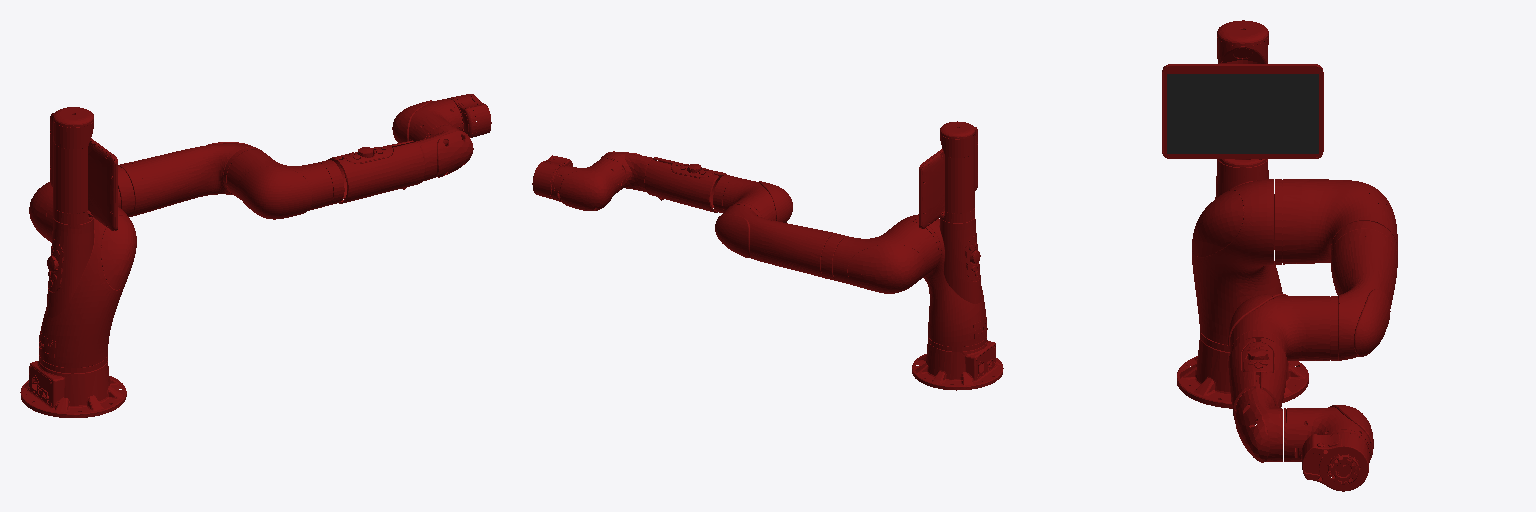
URDF robot description (sawyer):
<?xml version="1.0" ?>
<!-- =================================================================================== -->
<!-- |    This document was autogenerated by xacro from ./urdf.xacro                   | -->
<!-- |    EDITING THIS FILE BY HAND IS NOT RECOMMENDED                                 | -->
<!-- =================================================================================== -->
<robot name="sawyer" xmlns:xacro="http://www.ros.org/wiki/xacro">
  <material name="black">
    <color rgba="0 0 0 1"/>
  </material>
  <material name="darkgray">
    <color rgba=".2 .2 .2 1"/>
  </material>
  <material name="darkred">
    <color rgba=".5 .1 .1 1"/>
  </material>
  <material name="sawyer_red">
    <color rgba=".5 .1 .1 1"/>
  </material>
  <material name="sawyer_gray">
    <color rgba="0.75294 0.75294 0.75294 1"/>
  </material>
  <link name="base"/>
  <link name="torso">
    <visual>
      <origin rpy="0 0 0" xyz="0 0 0"/>
      <geometry>
        <box size="0 0 0"/>
      </geometry>
      <material name="darkgray">
        <color rgba=".2 .2 .2 1"/>
      </material>
    </visual>
    <inertial>
      <origin rpy="0 0 0" xyz="0.000000 0.000000 0.000000"/>
      <mass value="0.0001"/>
      <inertia ixx="1e-08" ixy="0" ixz="0" iyy="1e-08" iyz="0" izz="1e-08"/>
    </inertial>
  </link>
  <link name="pedestal">
    <visual>
      <origin rpy="1.57079632679 0 -1.57079632679" xyz="0.26 0.345 -0.91488"/>
      <geometry>
        <mesh filename="package://sawyer_description/meshes/sawyer_pv/pedestal.DAE"/>
      </geometry>
      <material name="darkgray"/>
    </visual>
    <collision>
      <origin rpy="0 0 0" xyz="0 0 -0.30"/>
      <geometry>
        <cylinder length="0.62" radius="0.18"/>
      </geometry>
    </collision>
    <inertial>
      <origin rpy="0 0 0" xyz="0 0 0"/>
      <mass value="60.86397744"/>
      <inertia ixx="5.0635929" ixy="0.00103417" ixz="0.80199628" iyy="6.08689388" iyz="0.00105311" izz="4.96191932"/>
    </inertial>
  </link>
  <joint name="torso_t0" type="fixed">
    <origin rpy="0 0 0" xyz="0 0 0"/>
    <parent link="base"/>
    <child link="torso"/>
  </joint>
  <joint name="pedestal_fixed" type="fixed">
    <origin rpy="0 0 0" xyz="0.0 0.0 0.0"/>
    <parent link="base"/>
    <child link="pedestal"/>
  </joint>
  <joint name="right_arm_mount" type="fixed">
    <origin rpy="0 0 0" xyz="0.0 0.0 0.0"/>
    <parent link="base"/>
    <child link="right_arm_base_link"/>
  </joint>
  <link name="right_arm_base_link">
    <inertial>
      <origin rpy="0 0 0" xyz="-0.0006241 -2.8025E-05 0.065404"/>
      <mass value="2.0687"/>
      <inertia ixx="0.0067599" ixy="-4.2024E-05" ixz="-6.1904E-07" iyy="0.0067877" iyz="1.5888E-05" izz="0.0074031"/>
    </inertial>
    <visual>
      <origin rpy="0 0 0" xyz="0 0 0"/>
      <geometry>
        <mesh filename="package://sawyer_description/meshes/sawyer_pv/base.DAE"/>
      </geometry>
      <material name="sawyer_red"/>
    </visual>
    <collision>
      <origin rpy="0 0 0" xyz="0 0 0.12"/>
      <geometry>
        <cylinder length="0.24" radius="0.08"/>
      </geometry>
    </collision>
  </link>
  <link name="right_l0">
    <inertial>
      <origin rpy="0 0 0" xyz="0.024366 0.010969 0.14363"/>
      <mass value="5.3213"/>
      <inertia ixx="0.053314" ixy="0.0047093" ixz="0.011734" iyy="0.057902" iyz="0.0080179" izz="0.023659"/>
    </inertial>
    <visual>
      <origin rpy="0 0 0" xyz="0 0 0"/>
      <geometry>
        <mesh filename="package://sawyer_description/meshes/sawyer_mp3/l0.DAE"/>
      </geometry>
      <material name="sawyer_red"/>
    </visual>
    <collision>
      <origin rpy="0 0 0" xyz="0.081 0 0.237"/>
      <geometry>
        <sphere radius="0.07"/>
      </geometry>
    </collision>
  </link>
  <joint name="right_j0" type="revolute">
    <origin rpy="0 0 0" xyz="0 0 0.08"/>
    <parent link="right_arm_base_link"/>
    <child link="right_l0"/>
    <axis xyz="0 0 1"/>
    <limit effort="80.0" lower="-3.0503" upper="3.0503" velocity="1.74"/>
  </joint>
  <link name="head">
    <inertial>
      <origin rpy="0 0 0" xyz="0.0053207 -2.6549E-05 0.1021"/>
      <mass value="1.5795"/>
      <inertia ixx="0.011833" ixy="-4.4669E-06" ixz="4.9425E-05" iyy="0.0082709" iyz="4.2124E-07" izz="0.0049661"/>
    </inertial>
    <visual>
      <origin rpy="0 0 0" xyz="0 0 0"/>
      <geometry>
        <mesh filename="package://sawyer_description/meshes/sawyer_pv/head.DAE"/>
      </geometry>
      <material name="sawyer_red"/>
    </visual>
    <collision>
      <origin rpy="0 0 0" xyz="0 0 0.08"/>
      <geometry>
        <sphere radius="0.18"/>
      </geometry>
    </collision>
  </link>
  <joint name="head_pan" type="revolute">
    <origin rpy="0 0 0" xyz="0 0 0.2965"/>
    <parent link="right_l0"/>
    <child link="head"/>
    <axis xyz="0 0 1"/>
    <limit effort="8" lower="-5.1477" upper="0.9559" velocity="1.8"/>
  </joint>
  <link name="right_torso_itb">
    <inertial>
      <origin rpy="0 0 0" xyz="0.000000 0.000000 0.000000"/>
      <mass value="0.0001"/>
      <inertia ixx="1e-08" ixy="0" ixz="0" iyy="1e-08" iyz="0" izz="1e-08"/>
    </inertial>
  </link>
  <joint name="right_torso_itb" type="fixed">
    <origin rpy="0 -1.57079632679 0" xyz="-.055 0 .22"/>
    <parent link="right_l0"/>
    <child link="right_torso_itb"/>
    <axis xyz="0 0 1"/>
  </joint>
  <link name="right_l1">
    <inertial>
      <origin rpy="0 0 0" xyz="-0.0030849 -0.026811 0.092521"/>
      <mass value="4.505"/>
      <inertia ixx="0.022398" ixy="-0.00023986" ixz="-0.00029362" iyy="0.014613" iyz="-0.0060875" izz="0.017295"/>
    </inertial>
    <visual>
      <origin rpy="0 0 0" xyz="0 0 0"/>
      <geometry>
        <mesh filename="package://sawyer_description/meshes/sawyer_mp3/l1.DAE"/>
      </geometry>
      <material name="sawyer_red"/>
    </visual>
    <collision>
      <origin rpy="0 0 0" xyz="0 0 0.1225"/>
      <geometry>
        <sphere radius="0.07"/>
      </geometry>
    </collision>
  </link>
  <joint name="right_j1" type="revolute">
    <origin rpy="-1.57079632679 1.57079632679 0" xyz="0.081 0.05 0.237"/>
    <parent link="right_l0"/>
    <child link="right_l1"/>
    <axis xyz="0 0 1"/>
    <limit effort="80.0" lower="-3.8183" upper="2.2824" velocity="1.328"/>
  </joint>
  <link name="right_l2">
    <inertial>
      <origin rpy="0 0 0" xyz="-0.00016232 -0.015346 0.13445"/>
      <mass value="1.7251"/>
      <inertia ixx="0.025176" ixy="4.3031E-06" ixz="1.4564E-05" iyy="0.024982" iyz="-0.0033928" izz="0.0033798"/>
    </inertial>
    <visual>
      <origin rpy="0 0 0" xyz="0 0 0"/>
      <geometry>
        <mesh filename="package://sawyer_description/meshes/sawyer_pv/l2.DAE"/>
      </geometry>
      <material name="sawyer_red"/>
    </visual>
    <collision>
      <origin rpy="0 0 0" xyz="0 0 0.14"/>
      <geometry>
        <cylinder length="0.35" radius="0.06"/>
      </geometry>
    </collision>
  </link>
  <joint name="right_j2" type="revolute">
    <origin rpy="1.57079632679 0 0" xyz="0 -0.14 0.1425"/>
    <parent link="right_l1"/>
    <child link="right_l2"/>
    <axis xyz="0 0 1"/>
    <limit effort="40.0" lower="-3.0514" upper="3.0514" velocity="1.957"/>
  </joint>
  <link name="right_l3">
    <inertial>
      <origin rpy="0 0 0" xyz="-0.0046678 -0.028394 -0.083127"/>
      <mass value="2.4743"/>
      <inertia ixx="0.0099549" ixy="-1.7675E-05" ixz="0.00027521" iyy="0.0064248" iyz="0.0030853" izz="0.0067746"/>
    </inertial>
    <visual>
      <origin rpy="0 0 0" xyz="0 0 0"/>
      <geometry>
        <mesh filename="package://sawyer_description/meshes/sawyer_pv/l3.DAE"/>
      </geometry>
      <material name="sawyer_red"/>
    </visual>
    <collision>
      <origin rpy="0 0 0" xyz="0 -0.01 -0.12"/>
      <geometry>
        <sphere radius="0.06"/>
      </geometry>
    </collision>
  </link>
  <joint name="right_j3" type="revolute">
    <origin rpy="-1.57079632679 0 0" xyz="0 -0.042 0.26"/>
    <parent link="right_l2"/>
    <child link="right_l3"/>
    <axis xyz="0 0 1"/>
    <limit effort="40.0" lower="-3.0514" upper="3.0514" velocity="1.957"/>
  </joint>
  <link name="right_l4">
    <inertial>
      <origin rpy="0 0 0" xyz="-0.0027794 0.0076558 0.13273"/>
      <mass value="1.0433"/>
      <inertia ixx="0.012913" ixy="2.573E-05" ixz="0.00017705" iyy="0.012939" iyz="0.0011152" izz="0.0012405"/>
    </inertial>
    <visual>
      <origin rpy="0 0 0" xyz="0 0 0"/>
      <geometry>
        <mesh filename="package://sawyer_description/meshes/sawyer_pv/l4.DAE"/>
      </geometry>
      <material name="sawyer_red"/>
    </visual>
    <collision>
      <origin rpy="0 0 0" xyz="0 0 0.14"/>
      <geometry>
        <cylinder length="0.36" radius="0.045"/>
      </geometry>
    </collision>
  </link>
  <joint name="right_j4" type="revolute">
    <origin rpy="1.57079632679 0 0" xyz="0 -0.125 -0.1265"/>
    <parent link="right_l3"/>
    <child link="right_l4"/>
    <axis xyz="0 0 1"/>
    <limit effort="9.0" lower="-2.9842" upper="2.9842" velocity="3.485"/>
  </joint>
  <link name="right_arm_itb">
    <inertial>
      <origin rpy="0 0 0" xyz="0.000000 0.000000 0.000000"/>
      <mass value="0.0001"/>
      <inertia ixx="1e-08" ixy="0" ixz="0" iyy="1e-08" iyz="0" izz="1e-08"/>
    </inertial>
  </link>
  <joint name="right_arm_itb" type="fixed">
    <origin rpy="0 -1.57079632679 0" xyz="-.055 0 .075"/>
    <parent link="right_l4"/>
    <child link="right_arm_itb"/>
    <axis xyz="0 0 1"/>
  </joint>
  <link name="right_l5">
    <inertial>
      <origin rpy="0 0 0" xyz="0.0062067 -0.024291 0.075564"/>
      <mass value="1.5343"/>
      <inertia ixx="0.0046072" ixy="0.00012002" ixz="5.3065E-05" iyy="0.0028725" iyz="-0.0011886" izz="0.003101"/>
    </inertial>
    <visual>
      <origin rpy="0 0 0" xyz="0 0 0"/>
      <geometry>
        <mesh filename="package://sawyer_description/meshes/sawyer_pv/l5.DAE"/>
      </geometry>
      <material name="sawyer_red"/>
    </visual>
    <collision>
      <origin rpy="0 0 0" xyz="0.01 0 0.09"/>
      <geometry>
        <sphere radius="0.06"/>
      </geometry>
    </collision>
  </link>
  <joint name="right_j5" type="revolute">
    <origin rpy="-1.57079632679 0 0" xyz="0 0.031 0.275"/>
    <parent link="right_l4"/>
    <child link="right_l5"/>
    <axis xyz="0 0 1"/>
    <limit effort="9.0" lower="-2.9842" upper="2.9842" velocity="3.485"/>
  </joint>
  <link name="right_hand_camera"/>
  <joint name="right_hand_camera" type="fixed">
    <origin rpy="0 1.57079632679 0" xyz="0.039552 -0.033 0.0695"/>
    <parent link="right_l5"/>
    <child link="right_hand_camera"/>
    <axis xyz="0 0 0"/>
  </joint>
  <link name="right_wrist"/>
  <joint name="right_wrist" type="fixed">
    <origin rpy="1.57079632679 0 0" xyz="0 0 0.10541"/>
    <parent link="right_l5"/>
    <child link="right_wrist"/>
    <axis xyz="0 0 0"/>
  </joint>
  <link name="right_l6">
    <inertial>
      <origin rpy="0 0 0" xyz="-8.0726E-06 0.0085838 -0.0049566"/>
      <mass value="0.3292"/>
      <inertia ixx="0.00031105" ixy="1.4771E-06" ixz="-3.7074E-07" iyy="0.00021549" iyz="-8.4533E-06" izz="0.00035976"/>
    </inertial>
    <visual>
      <origin rpy="0 0 0" xyz="0 0 0"/>
      <geometry>
        <mesh filename="package://sawyer_description/meshes/sawyer_mp1/l6.DAE"/>
      </geometry>
      <material name="sawyer_red"/>
    </visual>
    <collision>
      <origin rpy="0 0 0" xyz="0 0 -0.005"/>
      <geometry>
        <cylinder length="0.05" radius="0.065"/>
      </geometry>
    </collision>
  </link>
  <joint name="right_j6" type="revolute">
    <origin rpy="-1.57079632679 -0.17453 3.1416" xyz="0 -0.11 0.1053"/>
    <parent link="right_l5"/>
    <child link="right_l6"/>
    <axis xyz="0 0 1"/>
    <limit effort="9.0" lower="-4.7104" upper="4.7104" velocity="4.545"/>
  </joint>
  <link name="right_hand">
    <collision>
      <origin rpy="0 0 0" xyz="0 0 0.02"/>
      <geometry>
        <cylinder length="0.04" radius="0.06"/>
      </geometry>
    </collision>
    <inertial>
      <origin rpy="0 0 0" xyz="1.0E-08 1.0E-08 1.0E-08"/>
      <mass value="1.0E-08"/>
      <inertia ixx="1.0E-08" ixy="1.0E-08" ixz="1.0E-08" iyy="1.0E-08" iyz="1.0E-08" izz="1.0E-08"/>
    </inertial>
  </link>
  <joint name="right_hand" type="fixed">
    <origin rpy="0 0 1.570796" xyz="0 0 0.0245"/>
    <axis xyz="0 0 1"/>
    <parent link="right_l6"/>
    <child link="right_hand"/>
  </joint>
  <link name="screen">
    <visual>
      <origin rpy="0 0 0" xyz="0 0 0"/>
      <geometry>
        <box size="0.24 0.14 0.002"/>
      </geometry>
      <material name="darkgray"/>
    </visual>
    <collision>
      <origin rpy="0 0 0" xyz="0 0 0"/>
      <geometry>
        <sphere radius="0.001"/>
      </geometry>
    </collision>
    <inertial>
      <origin rpy="0 0 0" xyz="0 0 0"/>
      <mass value="0.0001"/>
      <inertia ixx="1e-08" ixy="0" ixz="0" iyy="1e-08" iyz="0" izz="1e-08"/>
    </inertial>
  </link>
  <joint name="display_joint" type="fixed">
    <origin rpy="1.57079632679 0 1.57079632679" xyz="0.03 0.0 0.105"/>
    <parent link="head"/>
    <child link="screen"/>
  </joint>
  <link name="head_camera"/>
  <joint name="head_camera" type="fixed">
    <origin rpy="-2.1293 0 -1.57079632679" xyz="0.0228027 0 0.216572"/>
    <parent link="head"/>
    <child link="head_camera"/>
    <axis xyz="0 0 0"/>
  </joint>
</robot>

--- Render facts (derived) ---
3 views of the same robot in one strip: view 1: azimuth 30°, elevation 25°; view 2: azimuth 150°, elevation 25°; view 3: azimuth 270°, elevation 25° (orthographic).
Model sawyer with 19 links and 18 joints (8 revolute, 10 fixed), rooted at base, posed every joint at zero.
Visible links, largest first — view 1: right_l0, head, right_l3, right_l4, right_l2, right_arm_base_link, right_l5, right_l1, right_l6; view 2: right_l0, right_l1, head, right_l2, right_l4, right_arm_base_link, right_l5, right_l3, right_l6; view 3: screen, right_l0, right_l1, right_l2, right_l3, right_l4, head, right_arm_base_link, right_l6, right_l5.
Boxes of the visible links, x1,y1,x2,y2 form: right_l0: (39,207,136,373); head: (50,107,117,230); right_l3: (223,147,344,219); right_l4: (328,125,473,203); right_l2: (118,142,255,216); right_arm_base_link: (20,361,126,417); right_l5: (392,99,462,145); right_l1: (29,166,134,242); right_l6: (447,94,491,137); right_l0: (898,213,987,351); right_l1: (821,219,941,293); head: (919,121,977,228); right_l2: (715,205,836,278); right_l4: (601,151,726,212); right_arm_base_link: (912,340,1003,390); right_l5: (552,158,625,210); right_l3: (713,175,792,222); right_l6: (532,155,572,199); screen: (1167,74,1318,153); right_l0: (1192,159,1282,351); right_l1: (1274,179,1397,264); right_l2: (1331,229,1397,360); right_l3: (1228,294,1337,383); right_l4: (1228,338,1287,462); head: (1162,20,1323,167); right_arm_base_link: (1177,338,1308,408); right_l6: (1301,432,1369,491); right_l5: (1284,405,1373,476).
Size in the robot's own frame: 1.12 by 0.3738 by 0.616 metres.
9 mesh visuals loaded from 10 distinct referenced files (9 Collada DAE); not drawn: 1 (reference not matched to a file when rendering).
